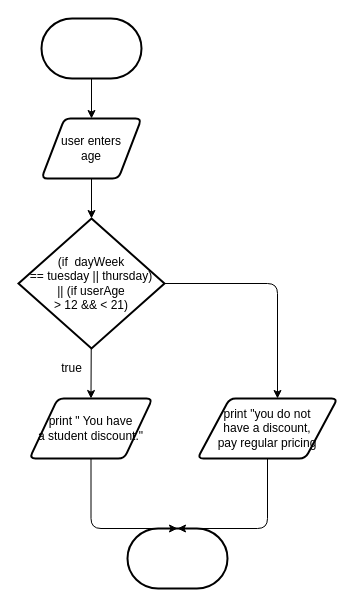
This 355x606 diagram has some shape labels left out. The shapes that lost their labels are listed below. From the top down, each one's box as (x1, y1, x2, y2) in pixels, then its label:
(40, 17, 142, 79): start
(126, 527, 228, 589): stop
